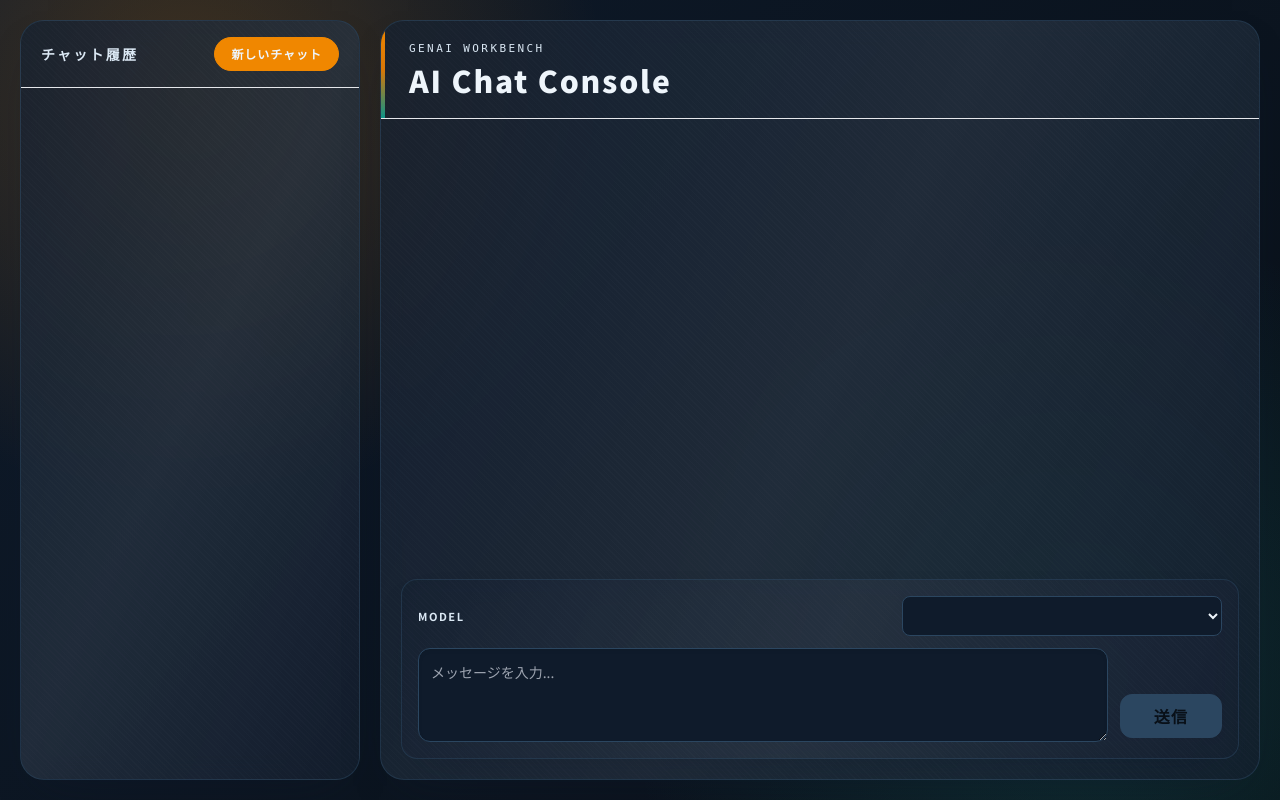
Chat Integration Tests › 履歴取得後にチャット送信できる
This screenshot has width=1280, height=800.
Type "Hi" into the text box with placeholder "メッセージを入力...". click: (763, 695)
box: [418,648,1108,742]
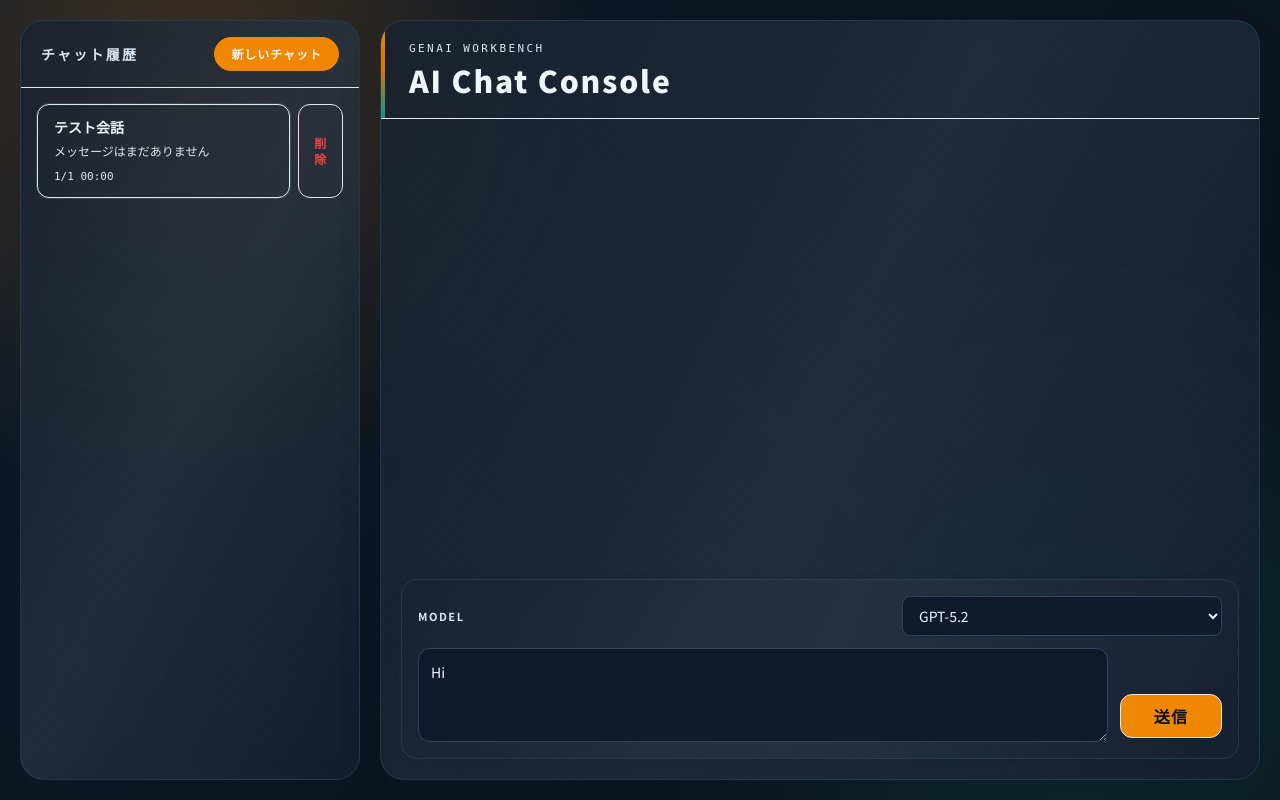
Click the button "送信". click: (1171, 716)
box: [1120,694,1222,738]
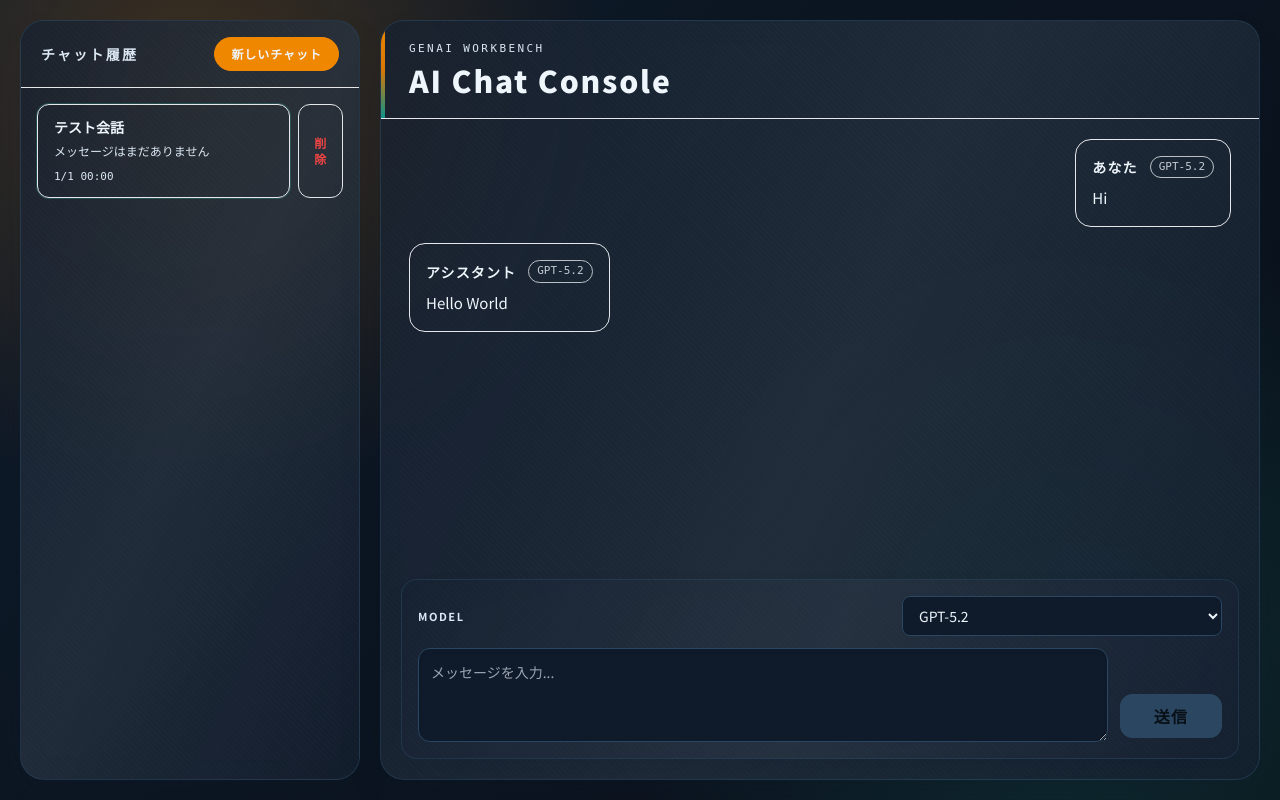
Check: the text "Hello World" is shown, box [426,292,508,313]
